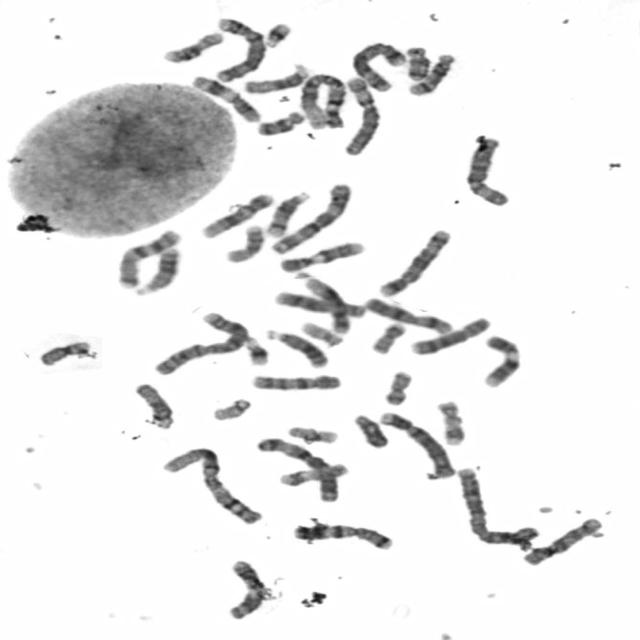A1: (156, 444, 265, 526), (295, 70, 348, 130)
A2: (453, 464, 538, 550), (148, 310, 252, 377)
A3: (267, 180, 355, 256), (253, 434, 341, 504)
B4: (376, 408, 457, 480), (210, 14, 268, 83)
B5: (376, 226, 454, 298), (348, 38, 410, 92)
C10: (519, 514, 605, 568), (246, 372, 343, 392)
C11: (188, 73, 262, 124), (226, 557, 272, 622)
C12: (196, 189, 276, 240), (300, 274, 351, 335)
C6: (463, 134, 511, 208), (339, 76, 383, 156)
C7: (111, 227, 184, 290), (289, 521, 395, 551)
C8: (406, 314, 493, 356), (270, 288, 366, 319)
C9: (276, 238, 367, 274), (477, 332, 523, 390)
D13: (262, 326, 330, 370), (130, 243, 183, 296)
D14: (262, 188, 312, 238), (405, 50, 457, 97)
D15: (240, 61, 311, 95), (130, 380, 176, 430)
E16: (161, 29, 225, 63), (224, 220, 266, 268)
E17: (276, 460, 350, 488), (438, 401, 467, 447)
E18: (252, 109, 308, 137), (403, 44, 431, 81)
F19: (38, 341, 92, 368), (285, 423, 342, 445)
F20: (366, 321, 408, 356), (379, 368, 415, 408)
G21: (241, 333, 270, 368), (260, 20, 293, 49)
G22: (297, 320, 348, 350), (208, 395, 253, 421)
X: (360, 294, 455, 336)
Y: (350, 416, 390, 452)
